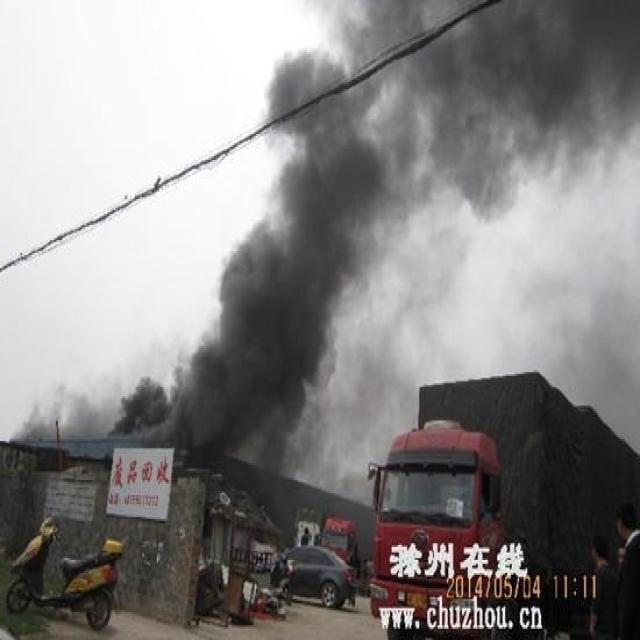Smoke: (8, 2, 640, 508)
